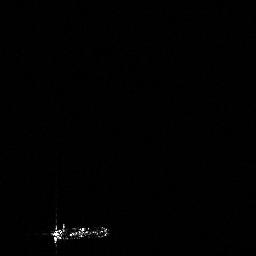ship: (51, 223, 108, 244)
